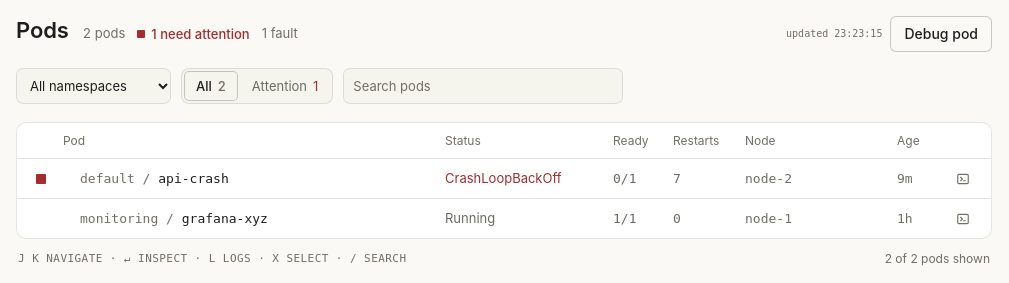
Test: PodsView › search filters by name
Type "grafana" into the search field with placeholder "Search pods".
click(483, 86); type("grafana")  # box top-left (343, 66), bottom-right (623, 106)
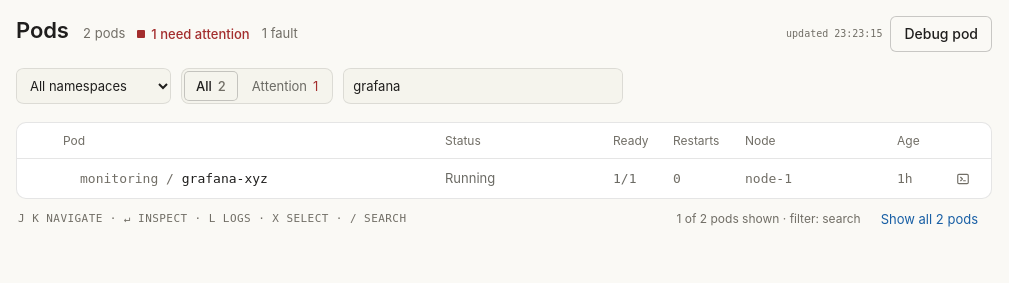
Expected: the text "grafana-xyz" is shown, top-left (182, 170), bottom-right (268, 186)
Now the button "api-crash" is gone
